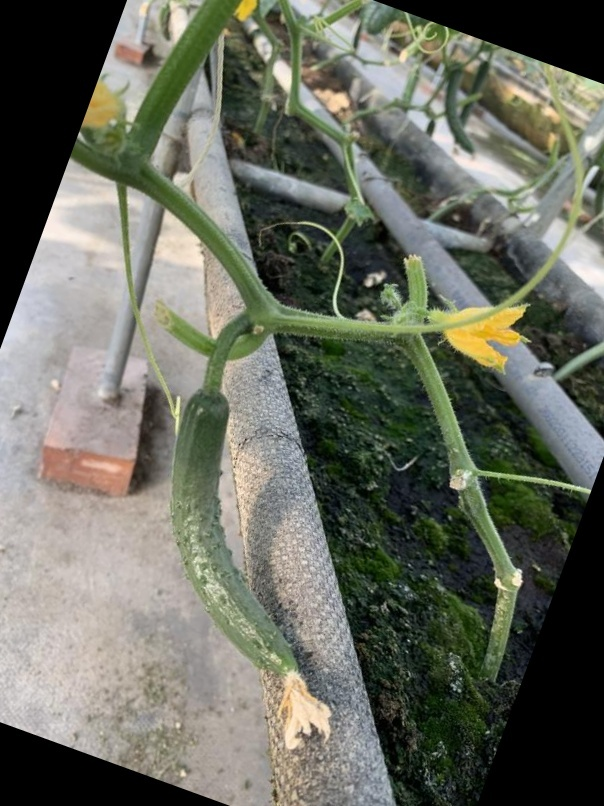growth: (151, 379, 360, 766)
